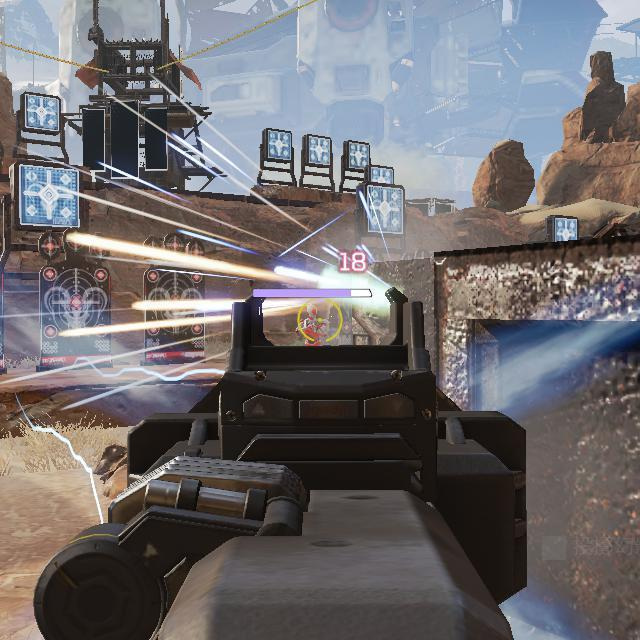avatar: (294, 302, 328, 346)
